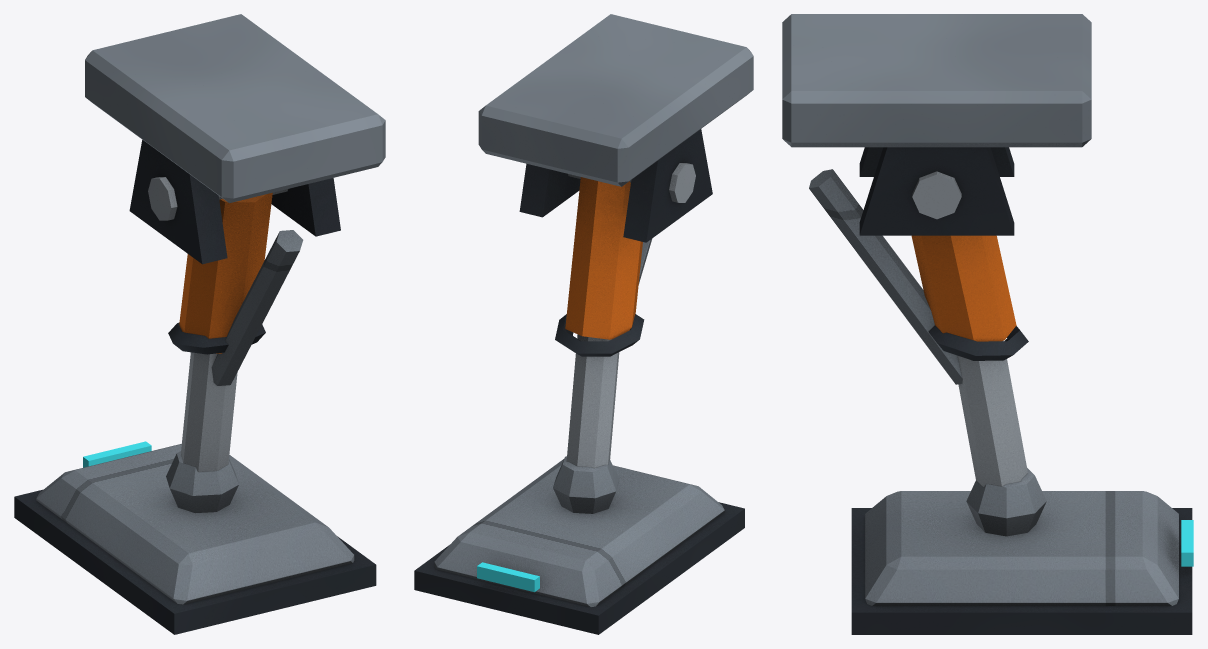
The model's file is tren_aterrizaje.fbx.
3 renders of one model, left to right at view 1: azimuth 30°, elevation 25°; view 2: azimuth 150°, elevation 25°; view 3: azimuth 270°, elevation 25°, orthographic. The views are drawn at different scales.
Parts seen in each view (by area): view 1: tren_aterrizaje, tren_aterrizaje_zapata, tren_aterrizaje_pata, tren_aterrizaje_neon; view 2: tren_aterrizaje, tren_aterrizaje_zapata, tren_aterrizaje_pata, tren_aterrizaje_neon; view 3: tren_aterrizaje, tren_aterrizaje_zapata, tren_aterrizaje_pata, tren_aterrizaje_neon.
Part boxes in pixels (<box>): tren_aterrizaje: <box>85,14,385,264</box>; tren_aterrizaje_zapata: <box>14,444,376,634</box>; tren_aterrizaje_pata: <box>168,192,303,471</box>; tren_aterrizaje_neon: <box>83,441,151,467</box>; tren_aterrizaje: <box>478,14,753,242</box>; tren_aterrizaje_zapata: <box>414,456,744,634</box>; tren_aterrizaje_pata: <box>555,177,651,468</box>; tren_aterrizaje_neon: <box>477,562,539,592</box>; tren_aterrizaje: <box>782,14,1091,235</box>; tren_aterrizaje_zapata: <box>851,468,1192,634</box>; tren_aterrizaje_pata: <box>809,169,1028,487</box>; tren_aterrizaje_neon: <box>1181,520,1193,566</box>.
Size of the model in its own units: 1.6 by 3.78 by 2.66.
2 materials, 2 textured.
